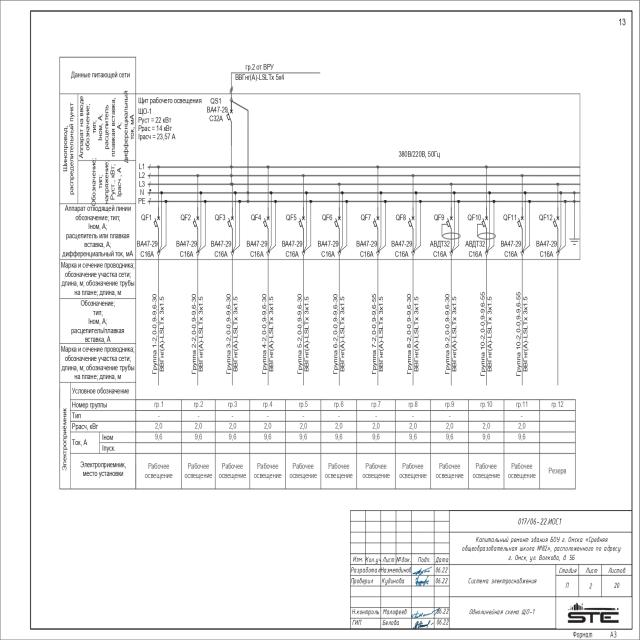-: (137, 95, 202, 116), (428, 238, 451, 260), (356, 238, 378, 260), (390, 238, 412, 260), (175, 237, 198, 258), (318, 238, 340, 259), (136, 237, 158, 258), (210, 237, 232, 258), (536, 237, 558, 258), (245, 238, 268, 258), (464, 238, 486, 258), (280, 238, 302, 258), (500, 238, 522, 258), (205, 105, 228, 123)
QF: (227, 86, 234, 124), (516, 213, 524, 232), (552, 213, 560, 231), (407, 215, 415, 231), (227, 215, 235, 231), (153, 215, 161, 230), (262, 215, 270, 230), (373, 214, 380, 229), (193, 215, 200, 230), (298, 215, 305, 230), (334, 215, 341, 230)
QFD: (441, 215, 462, 241), (476, 215, 497, 240)
